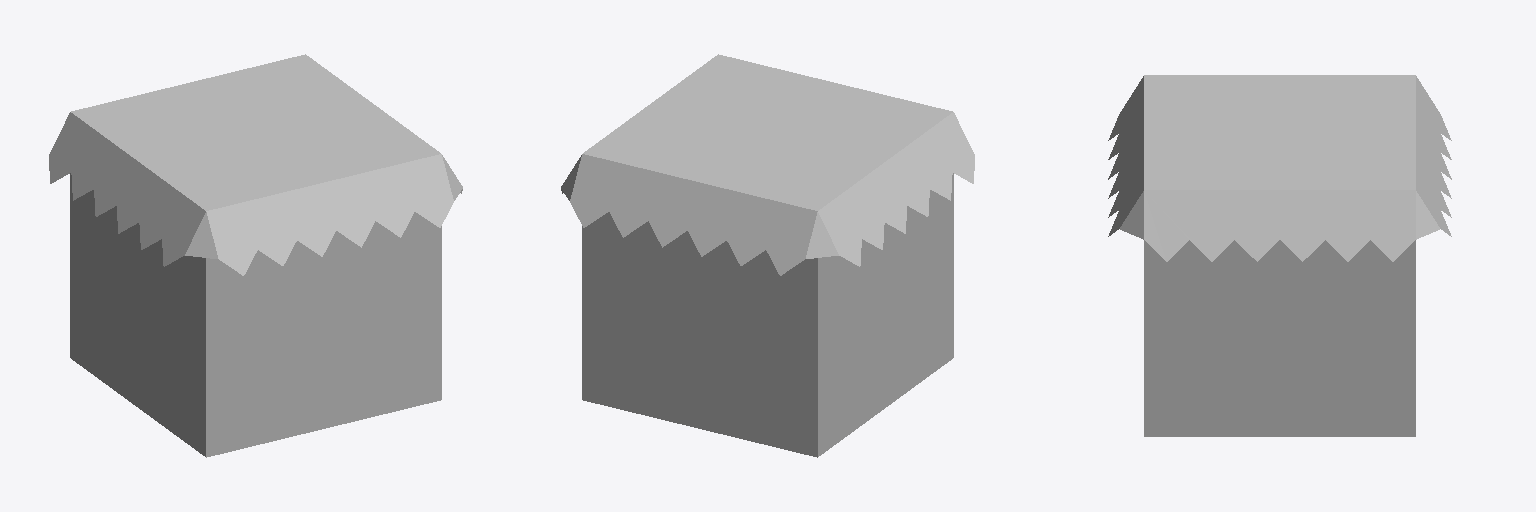
Rendered from block.obj.
The picture shows the model from 3 angles: view 1: azimuth 30°, elevation 25°; view 2: azimuth 150°, elevation 25°; view 3: azimuth 270°, elevation 25°; orthographic projection.
Visible parts, largest first — view 1: mesh_1, mesh_0; view 2: mesh_1, mesh_0; view 3: mesh_0, mesh_1.
Boxes of the visible parts, x1=… form: mesh_1: x1=70, y1=173, x2=441, y2=457; mesh_0: x1=49, y1=54, x2=462, y2=275; mesh_1: x1=582, y1=173, x2=953, y2=457; mesh_0: x1=561, y1=54, x2=974, y2=275; mesh_0: x1=1108, y1=75, x2=1451, y2=261; mesh_1: x1=1144, y1=240, x2=1415, y2=436.
Size of the model in its own units: 2.39 by 1.89 by 2.39.